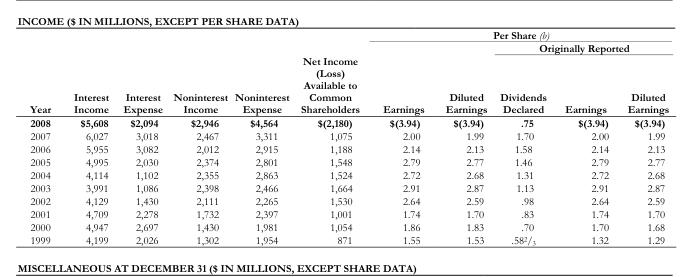table: (29, 28, 668, 246)
table column: (294, 28, 370, 246), (230, 28, 294, 246), (370, 28, 434, 246), (167, 28, 230, 246), (492, 28, 555, 246), (555, 28, 617, 246), (434, 28, 492, 246), (61, 28, 115, 246), (115, 28, 167, 246), (617, 28, 668, 246), (29, 28, 61, 246)
table column header: (29, 28, 668, 115)
table row: (29, 72, 668, 115), (29, 41, 668, 72), (29, 115, 668, 129), (29, 28, 668, 41), (29, 129, 668, 142), (29, 142, 668, 155), (29, 155, 668, 168), (29, 168, 668, 181), (29, 181, 668, 194), (29, 194, 668, 207), (29, 207, 668, 220), (29, 220, 668, 233), (29, 233, 668, 246)
table spanning cell: (294, 28, 370, 115), (230, 28, 294, 115), (167, 28, 230, 115), (492, 41, 668, 72), (370, 41, 434, 115), (61, 28, 115, 115), (115, 28, 167, 115), (434, 41, 492, 115), (370, 28, 668, 41), (29, 28, 61, 115)
